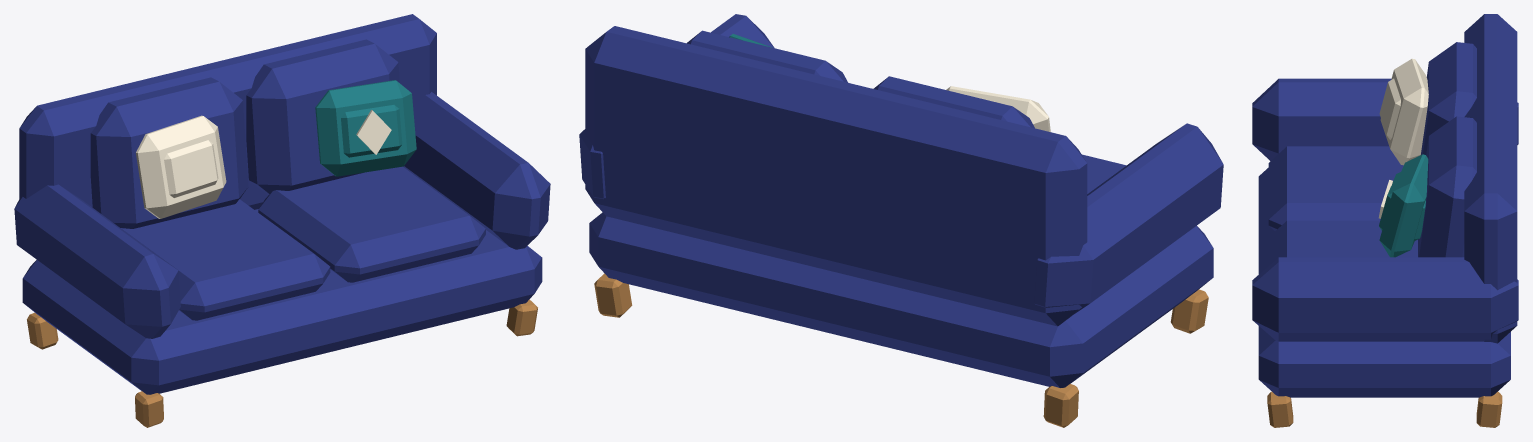
File: sofa_2seat.glb
3 renders of one model, left to right at view 1: azimuth 30°, elevation 25°; view 2: azimuth 150°, elevation 25°; view 3: azimuth 270°, elevation 25°, orthographic. The views are drawn at different scales.
Visible parts, largest first — view 1: sofa_2seat; view 2: sofa_2seat; view 3: sofa_2seat.
Boxes of the visible parts, x1,y1,x2,y2 form: sofa_2seat: (14,14,550,427); sofa_2seat: (579,14,1223,427); sofa_2seat: (1252,14,1518,427).
Bounding box in the file's own units: 1.46 × 0.7748 × 0.804.
